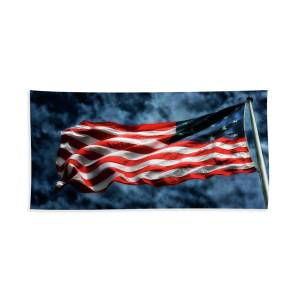America flag: (55, 99, 255, 191)
